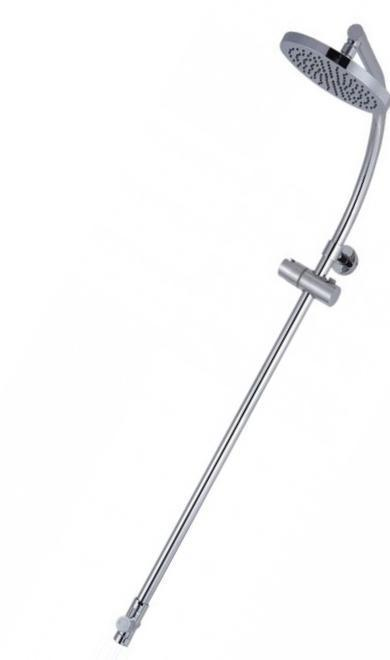Ducha: (81, 0, 389, 659)
